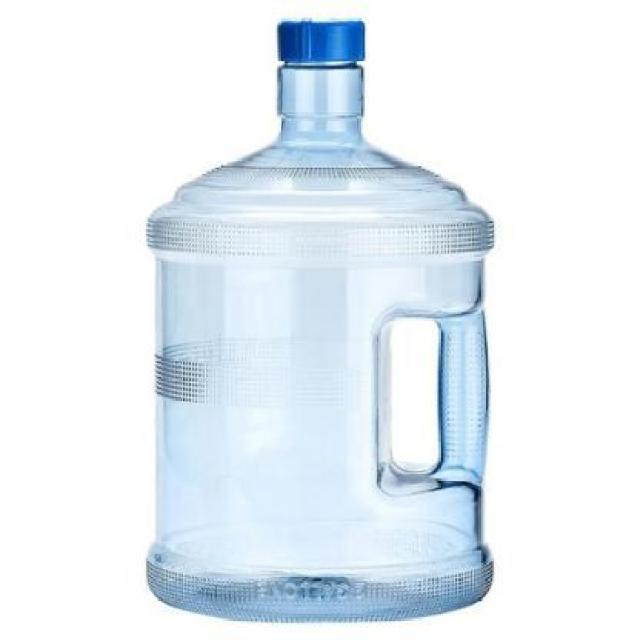coolerbottle: (142, 6, 508, 630)
